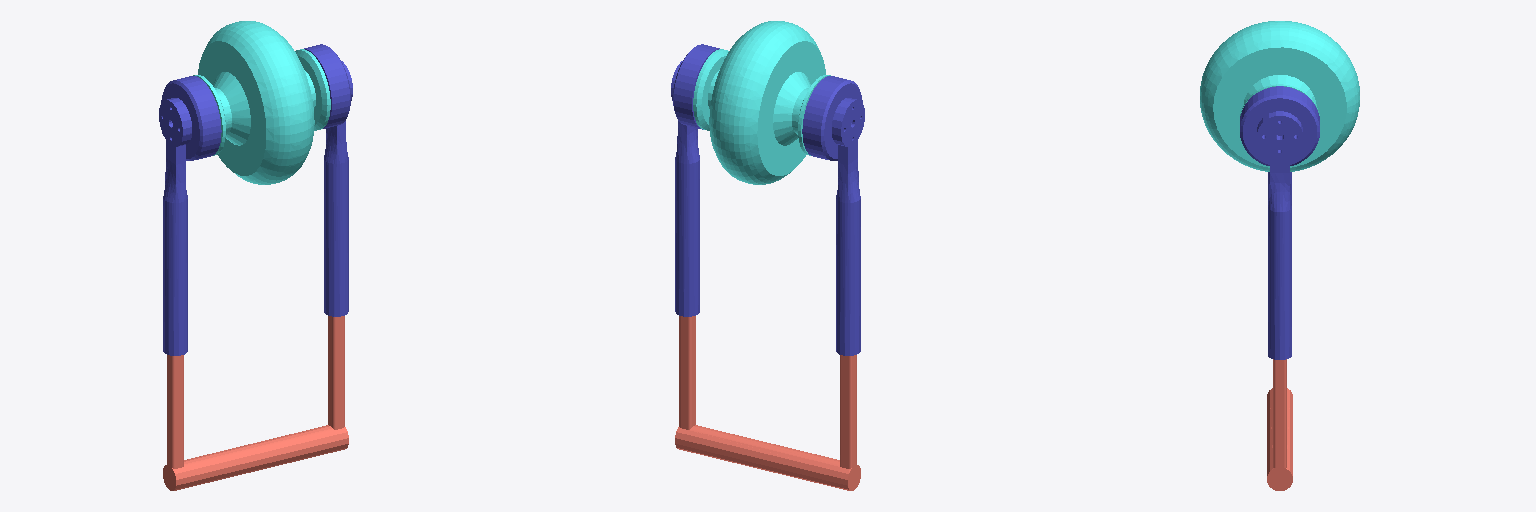
robot.urdf — SLIPone:
<?xml version="1.0" encoding="utf-8"?>
<!-- This URDF was automatically created by SolidWorks to URDF Exporter! Originally created by [author] ([email redacted]) 
     Commit Version: 1.6.0-1-g15f4949  Build Version: 1.6.7594.29634
     For more information, please see http://wiki.ros.org/sw_urdf_exporter -->
<robot
  name="SLIPone">
  <link
    name="Torso">
    <inertial>
      <origin
        xyz="0.06809 -0.03213 -0.021321"
        rpy="0 0 0" />
      <mass
        value="1.6644" />
      <inertia
        ixx="0.0020012"
        ixy="1.6636E-21"
        ixz="-1.2397E-20"
        iyy="0.001262"
        iyz="-6.0222E-21"
        izz="0.001262" />
    </inertial>
    <visual>
      <origin
        xyz="0 0 0"
        rpy="0 0 0" />
      <geometry>
        <mesh
          filename="package://SLIPone/meshes/Torso.STL" />
      </geometry>
      <material
        name="">
        <color
          rgba="0.43529 1 0.98824 1" />
      </material>
    </visual>
    <collision>
      <origin
        xyz="0 0 0"
        rpy="0 0 0" />
      <geometry>
        <mesh
          filename="package://SLIPone/meshes/Torso.STL" />
      </geometry>
    </collision>
  </link>
  <link
    name="Thigh">
    <inertial>
      <origin
        xyz="2.8626E-11 -0.019078 0.068073"
        rpy="0 0 0" />
      <mass
        value="0.13442" />
      <inertia
        ixx="0.00014466"
        ixy="-1.4794E-13"
        ixz="-2.2785E-10"
        iyy="3.4061E-05"
        iyz="-1.6579E-08"
        izz="0.00017214" />
    </inertial>
    <visual>
      <origin
        xyz="0 0 0"
        rpy="0 0 0" />
      <geometry>
        <mesh
          filename="package://SLIPone/meshes/Thigh.STL" />
      </geometry>
      <material
        name="">
        <color
          rgba="0.38824 0.4 0.85882 0.6" />
      </material>
    </visual>
    <collision>
      <origin
        xyz="0 0 0"
        rpy="0 0 0" />
      <geometry>
        <mesh
          filename="package://SLIPone/meshes/Thigh.STL" />
      </geometry>
    </collision>
  </link>
  <joint
    name="Rotate"
    type="continuous">
    <origin
      xyz="0 0.021321 -0.03213"
      rpy="1.5708 0 1.5708" />
    <parent
      link="Torso" />
    <child
      link="Thigh" />
    <axis
      xyz="0 0 1" />
  </joint>
  <link
    name="Feet">
    <inertial>
      <origin
        xyz="8.9937E-10 1.6594E-09 0.12684"
        rpy="0 0 0" />
      <mass
        value="0.036401" />
      <inertia
        ixx="9.0381E-05"
        ixy="6.4755E-13"
        ixz="-3.5682E-13"
        iyy="0.00019203"
        iyz="-4.9625E-13"
        izz="0.00010298" />
    </inertial>
    <visual>
      <origin
        xyz="0 0 0"
        rpy="0 0 0" />
      <geometry>
        <mesh
          filename="package://SLIPone/meshes/Feet.STL" />
      </geometry>
      <material
        name="">
        <color
          rgba="1 0.5451 0.48235 1" />
      </material>
    </visual>
    <collision>
      <origin
        xyz="0 0 0"
        rpy="0 0 0" />
      <geometry>
        <mesh
          filename="package://SLIPone/meshes/Feet.STL" />
      </geometry>
    </collision>
  </link>
  <joint
    name="Trans"
    type="prismatic">
    <origin
      xyz="0 -0.122 0.068054"
      rpy="1.5708 -1.5708 0" />
    <parent
      link="Thigh" />
    <child
      link="Feet" />
    <axis
      xyz="0 0 1" />
    <limit
      lower="-0.06"
      upper="0.06"
      effort="0"
      velocity="0" />
  </joint>
</robot>

--- Render facts (derived) ---
Views: 3 orthographic renders of the robot side by side, from view 1: azimuth 30°, elevation 25°; view 2: azimuth 150°, elevation 25°; view 3: azimuth 270°, elevation 25°.
Robot: SLIPone — 3 links, 2 joints (1 continuous, 1 prismatic); root link Torso; default pose: every joint at zero.
Visible links, largest first — view 1: Thigh, Torso, Feet; view 2: Thigh, Torso, Feet; view 3: Torso, Thigh, Feet.
Boxes of the visible links, left/top/right/bottom form: Thigh: left=159, top=44, right=352, bottom=355; Torso: left=193, top=21, right=330, bottom=184; Feet: left=163, top=316, right=348, bottom=490; Thigh: left=671, top=44, right=864, bottom=355; Torso: left=693, top=21, right=830, bottom=184; Feet: left=675, top=316, right=860, bottom=490; Torso: left=1200, top=21, right=1359, bottom=171; Thigh: left=1240, top=86, right=1319, bottom=359; Feet: left=1267, top=359, right=1292, bottom=490.
Bounding box of the posed robot: 0.152 × 0.12 × 0.352 m (x, y, z).
3 mesh visuals loaded from 3 distinct referenced files (3 binary STL).